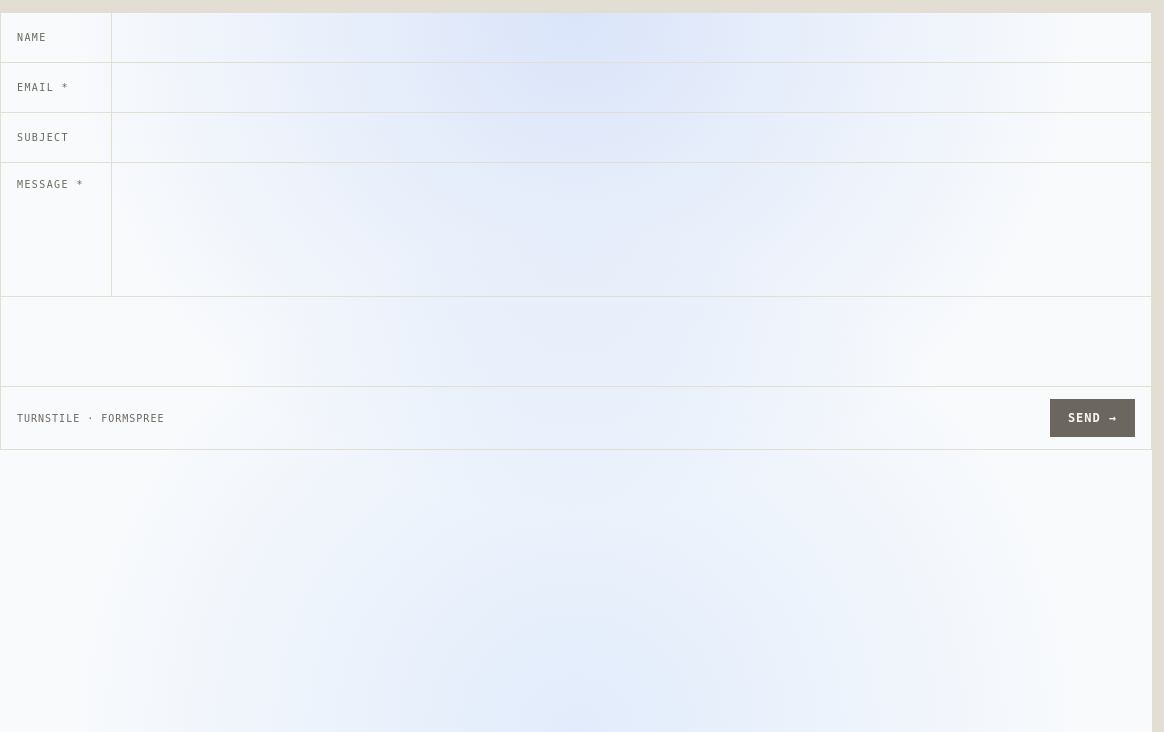
V3ContactForm Turnstile loading › loads and renders Turnstile on first focus, then enables submit once solved
Expected: the button "SEND →" is disabled, [1050, 399, 1135, 437]
Focus the field labelled "NAME". click: (631, 38)
box: [111, 13, 1151, 62]
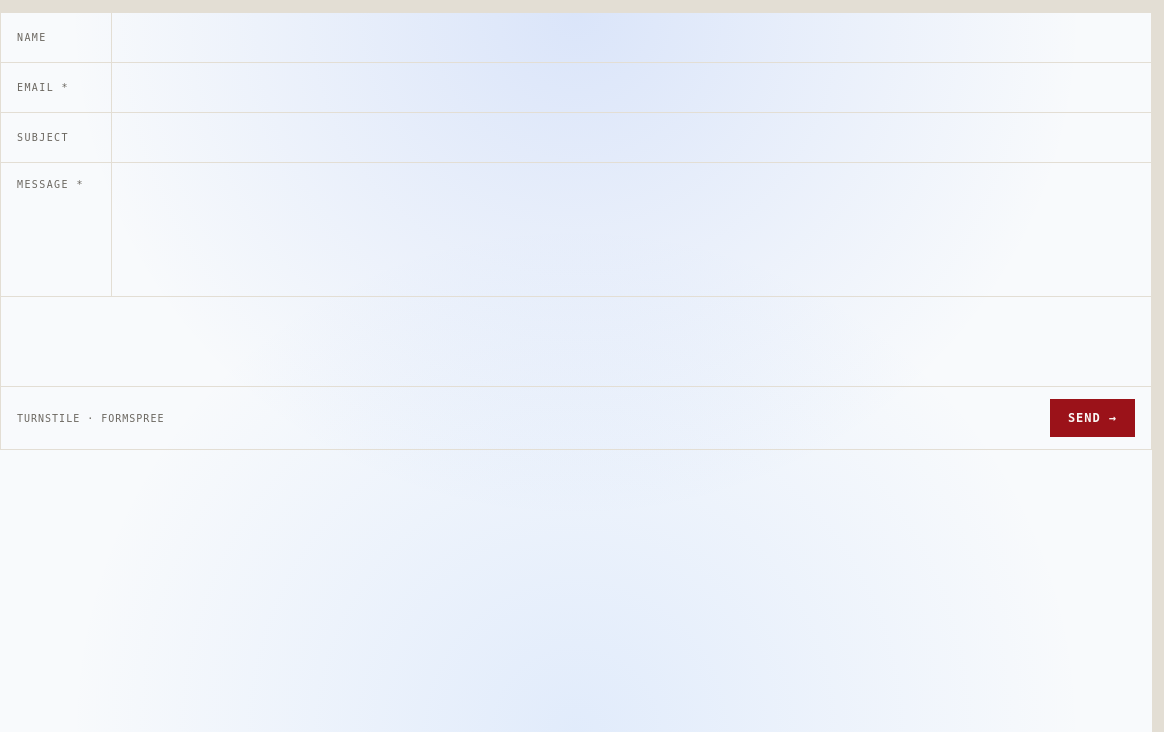
Result: the button "SEND →" is enabled at [1050, 399, 1135, 437]
